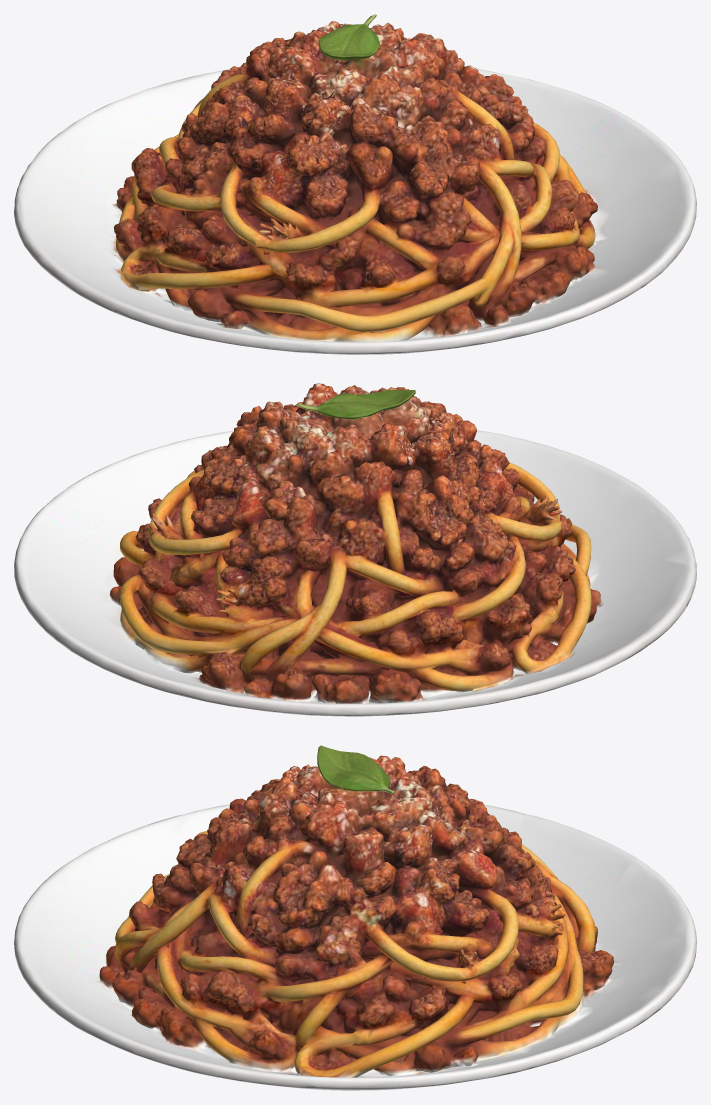
File: pasta_bolognesa.glb
3 views of the same model, one above another, from view 1: azimuth 30°, elevation 25°; view 2: azimuth 150°, elevation 25°; view 3: azimuth 270°, elevation 25° (orthographic).
Visible parts, largest first — view 1: tripo_node_135eea3e-54af-4471-9780-7bf986daacd5; view 2: tripo_node_135eea3e-54af-4471-9780-7bf986daacd5; view 3: tripo_node_135eea3e-54af-4471-9780-7bf986daacd5.
Boxes of the visible parts, x1,y1,x2,y2 form: tripo_node_135eea3e-54af-4471-9780-7bf986daacd5: (14,14,696,354); tripo_node_135eea3e-54af-4471-9780-7bf986daacd5: (14,383,696,716); tripo_node_135eea3e-54af-4471-9780-7bf986daacd5: (14,745,696,1090).
Size of the model in its own units: 0.27 by 0.0973 by 0.2697.
1 material, 1 textured.
